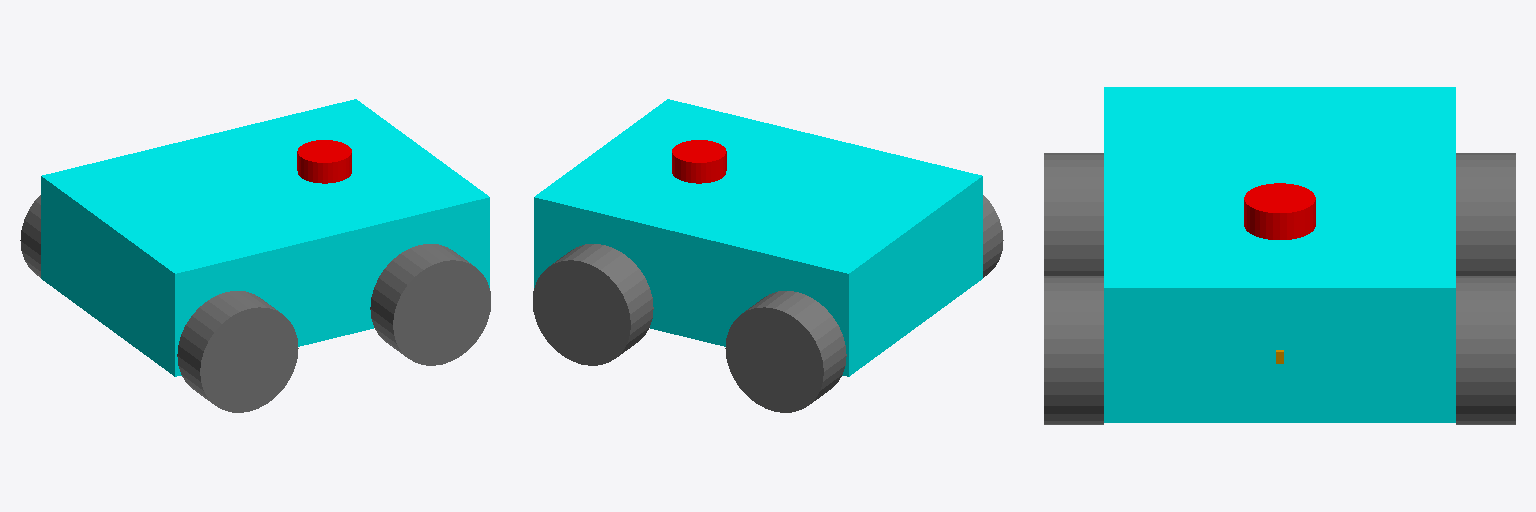
URDF robot description (RALLP_2):
<?xml version="1.0" ?>

<robot name="RALLP_2">

<!-- Robot base -->

  <link name="base_link">
    <visual>
      <origin xyz="0 0 0" rpy="0 0 0"/>
      <geometry>
        <box size="0.8 0.59 0.25"/>
      </geometry>
      <material name="Cyan">
        <color rgba="0 1.0 1.0 1.0"/>
      </material>
    </visual>
    <collision>
      <origin xyz="0 0 0" rpy="0 0 0"/>
      <geometry>
        <box size="0.8 0.59 0.25"/>
      </geometry>
    </collision>
    <inertial>
      <origin xyz="0.0 0.0 0.0" rpy="0 0 0"/>
      <mass value="45"/>
      <inertia ixx="1.53975" ixy="0" ixz="0" 
              iyy="2.634375" iyz="0" izz="3.705375"/>
    </inertial>
  </link>



  <link name="base_footprint"/>
  <joint name="base_joint" type="fixed">
    <parent link="base_link"/>
    <child link="base_footprint"/>
    <origin rpy="0 0 0" xyz="0.0 0.0 -0.200853"/>
  </joint>
    


  <!-- Front Right Wheel -->

  <link name="fr_link">
    <visual>
      <origin xyz="0 -0.05 0" rpy="-1.570796 0.0 0.0"/>
      <geometry>
        <cylinder length="0.1" radius="0.125"/>
      </geometry>
      <material name="Gray">
        <color rgba="0.5 0.5 0.5 1.0"/>
      </material>
    </visual>
    <collision>
      <origin xyz="0 -0.05 0" rpy="-1.570796 0.0 0.0"/>
      <geometry>
        <cylinder length="0.1" radius="0.125"/>
      </geometry>
    </collision>
    <inertial>
      <origin xyz="-0.0 -0.05 0.0" rpy="0 0 0"/>
      <mass value="1.5"/>
      <inertia ixx="0.0096875" ixy="0" ixz="0" 
              iyy="0.016875" iyz="0" izz="0.0096875"/>
    </inertial>
  </link>
  <joint name="fr_joint" type="continuous">
    <parent link="base_link"/>
    <child link="fr_link"/>
    <origin xyz="0.2205 -0.295 -0.074147" rpy="0.0 0.0 0.0"/>
    <axis xyz="0 1 0"/>
    <dynamics damping="0.0" friction="1000.0"/>
  </joint>


  <!-- Front Left Wheel -->

  <link name="fl_link">
    <visual>
      <origin xyz="0 0.05 0" rpy="1.570796327 0.0 0"/>
      <geometry>
        <cylinder length="0.1" radius="0.125"/>
      </geometry>
      <material name="Gray">
        <color rgba="0.5 0.5 0.5 1.0"/>
      </material>
    </visual>
    <collision>
      <origin xyz="0 0.05 0" rpy="1.570796327 0.0 0.0"/>
      <geometry>
        <cylinder length="0.1" radius="0.125"/>
      </geometry>
    </collision>
    <inertial>
      <origin xyz="-0.0 0.05 0.0" rpy="0 0 0"/>
      <mass value="1.5"/>
      <inertia ixx="0.0096875" ixy="0" ixz="0" 
              iyy="0.016875" iyz="0" izz="0.0096875"/>
    </inertial>
  </link>
  <joint name="fl_joint" type="continuous">
    <parent link="base_link"/>
    <child link="fl_link"/>
    <origin xyz="0.2205 0.295 -0.074147" rpy="0 0.0 0.0"/>
    <axis xyz="0 1 0"/>
    <dynamics damping="0.0" friction="1000.0"/>
  </joint>


  <!-- Rear Left Wheel -->

  <link name="rl_link">
    <visual>
      <origin xyz="0 0.05 0" rpy="1.570796327 -0.0 -0.0"/>
      <geometry>
        <cylinder length="0.1" radius="0.125"/>
      </geometry>
      <material name="Gray">
        <color rgba="0.5 0.5 0.5 1.0"/>
      </material>
    </visual>
    <collision>
      <origin xyz="0 0.05 0" rpy="1.570796327 0 0"/>
      <geometry>
        <cylinder length="0.1" radius="0.125"/>
      </geometry>
    </collision>
    <inertial>
      <origin xyz="0 0.05 0" rpy="0 0 0"/>
      <mass value="1.5"/>
      <inertia ixx="0.0096875" ixy="0" ixz="0" 
              iyy="0.016875" iyz="0" izz="0.0096875"/>
    </inertial>
  </link>
  <joint name="rl_joint" type="continuous">
    <parent link="base_link"/>
    <child link="rl_link"/>
    <origin xyz="-0.2695 0.295 -0.074147" rpy="0 0.0 0.0"/>
    <axis xyz="0 1 0"/>
    <dynamics damping="0.0" friction="1000.0"/>
  </joint>


  <!-- Rear Right Wheel -->

  <link name="rr_link">
    <visual>
      <origin xyz="0 -0.05 0" rpy="-1.570796327 0.0 0.0"/>
      <geometry>
        <cylinder length="0.1" radius="0.125"/>
      </geometry>
      <material name="Gray">
        <color rgba="0.5 0.5 0.5 1.0"/>
      </material>
    </visual>
    <collision>
      <origin xyz="0 -0.05 0" rpy="-1.570796327 0.0 0.0"/>
      <geometry>
        <cylinder length="0.1" radius="0.125"/>
      </geometry>
    </collision>
    <inertial>
      <origin xyz="-0.0 -0.05 0.0" rpy="0 0 0"/>
      <mass value="1.5"/>
      <inertia ixx="0.0096875" ixy="0" ixz="0" 
              iyy="0.016875" iyz="0" izz="0.0096875"/>
    </inertial>
  </link>
  <joint name="rr_joint" type="continuous">
    <parent link="base_link"/>
    <child link="rr_link"/>
    <origin xyz="-0.2695 -0.295 -0.074147" rpy="6.283182245 0 0"/>
    <axis xyz="0 1 0"/>
    <dynamics damping="0.0" friction="1000.0"/>
  </joint>


  <!-- Lidar_link -->

  <link name="lidar_link">
    <visual>
      <geometry>
        <cylinder length="0.05" radius="0.06"/>
      </geometry>
      <material name="Red">
        <color rgba="1.0 0.0 0.0 1"/>
      </material>
    </visual>
    <collision>
      <geometry>
        <cylinder length="0.05" radius="0.06"/>
      </geometry>
    </collision>
  </link>
  <joint name="lidar_joint" type="fixed">
    <parent link="base_link"/>
    <child link="lidar_link"/>
    <origin rpy="0 0 0" xyz="0.15 0 0.15"/>
  </joint>

  <!-- imu_sensor -->

  <link name="imu_sensor">
    <visual>
      <geometry>
        <box size="0.01 0.01 0.01"/>
      </geometry>
      <material name="Red">
        <color rgba="1.0 1.0 0.0 1"/>
      </material>
    </visual>
    <inertial>
        <mass value="0.01"/>
        <inertia ixx="0.001" ixy="0.0" ixz="0.0" 
                 iyy="0.001" iyz="0.0" izz="0.001"/>
    </inertial>
    <collision>
      <geometry>
        <box size="0.01 0.01 0.01"/>
      </geometry>
    </collision>
  </link>
  <joint name="imu_joint" type="fixed">
    <parent link="base_link"/>
    <child link="imu_sensor"/>
    <origin rpy="0 0 0" xyz="0 0 0.05"/>
  </joint>


  <!-- Camera link -->

 <link name="camera_link">
   <visual>
     <origin xyz="0 0 0" rpy="0 0 0"/>
     <geometry>
       <box size="0.015 0.015 0.022"/>
     </geometry>
   </visual>
   <collision>
     <origin xyz="0 0 0" rpy="0 0 0"/>
     <geometry>
       <box size="0.01 0.05 0.05"/>
     </geometry>
   </collision>
   <inertial>
     <origin xyz="0 0 0" rpy="0 0 0"/>
     <mass value="0.035"/>
     <inertia ixx="0.001" ixy="0" ixz="0" iyy="0.001" iyz="0" izz="0.001" />
   </inertial>
 </link>

 <joint name="camera_joint" type="fixed">
   <parent link="base_link"/>
   <child link="camera_link"/>
   <origin xyz="0.4 0 0" rpy="0 0 0"/>
 </joint>


  <!-- Gazebo plugin -->

  <gazebo>
    <plugin filename="gz-sim-diff-drive-system" name="gz::sim::systems::DiffDrive">
      <left_joint>fl_joint</left_joint>
      <left_joint>rl_joint</left_joint>
      <right_joint>fr_joint</right_joint>
      <right_joint>rr_joint</right_joint>
      <robotBaseFrame>base_link</robotBaseFrame>
      <wheel_separation>0.69</wheel_separation>
      <wheel_radius>0.125</wheel_radius>
      <odom_topic>odom</odom_topic>
      <frame_id>odom</frame_id>
      <child_frame_id>base_link</child_frame_id>
      <odom_publisher_frequency>5000</odom_publisher_frequency>
      <tf_topic>/tf</tf_topic>
      <topic>cmd_vel</topic>
    </plugin>


    <!-- joint_states publisher -->

    <plugin filename="gz-sim-joint-state-publisher-system" name="gz::sim::systems::JointStatePublisher">
      <topic>joint_states</topic>
      <joint_name>fl_joint</joint_name>
      <joint_name>fr_joint</joint_name>
      <joint_name>rl_joint</joint_name>
      <joint_name>rr_joint</joint_name>
    </plugin> 


    <!-- Lidar plugin -->

    <plugin
      filename="gz-sim-sensors-system"
      name="gz::sim::systems::Sensors">
      <render_engine>ogre2</render_engine>
    </plugin>
  </gazebo>

  <!--<gazebo reference="lidar_link">
    <sensor name="laser" type="gpu_lidar">
        <pose> 0 0 0 0 0 0 </pose>
        <visualize>true</visualize>
          <update_rate>10</update_rate>
         <lidar>
           <scan>
              <horizontal>
                <samples>1000</samples>
                <min_angle>-3.1415</min_angle>                   
                <max_angle>3.1415</max_angle>
              </horizontal>
           </scan>
          <range>
            <min>0.1</min>
            <max>12</max>
          </range>
         </lidar>
       <topic>scan</topic>
       <gz_frame_id>lidar_link</gz_frame_id>
    </sensor>
        
  </gazebo>-->


  <!-- Wheel friction Plugin-->

  <gazebo reference="fl_link">
     <mu1 value="5"/>
     <mu2 value="2"/>
  </gazebo>

  <gazebo reference="rl_link">
     <mu1 value="3"/>
     <mu2 value="2"/>
  </gazebo>

  <gazebo reference="rr_link">
     <mu1 value="3"/>
     <mu2 value="2"/>
  </gazebo>

  <gazebo reference="fr_link">
     <mu1 value="3"/>
     <mu2 value="2"/>
  </gazebo>
  


   <!-- Camera Plugin-->

</robot>

--- Render facts (derived) ---
The picture shows the robot from 3 angles, left to right: view 1: azimuth 30°, elevation 25°; view 2: azimuth 150°, elevation 25°; view 3: azimuth 270°, elevation 25°; orthographic projection.
Model RALLP_2 with 9 links and 8 joints (4 continuous, 4 fixed), rooted at base_link, posed all joints at 0.
Links seen in each view (by area): view 1: base_link, rr_link, fr_link, lidar_link, rl_link; view 2: base_link, rl_link, fl_link, lidar_link, rr_link; view 3: base_link, fr_link, fl_link, rl_link, rr_link, lidar_link.
Boxes of the visible links, x1=… form: base_link: x1=41, y1=99, x2=489, y2=376; rr_link: x1=177, y1=291, x2=298, y2=412; fr_link: x1=370, y1=244, x2=490, y2=365; lidar_link: x1=297, y1=140, x2=351, y2=183; rl_link: x1=20, y1=195, x2=40, y2=277; base_link: x1=534, y1=99, x2=982, y2=376; rl_link: x1=725, y1=291, x2=846, y2=412; fl_link: x1=533, y1=244, x2=653, y2=365; lidar_link: x1=672, y1=140, x2=726, y2=183; rr_link: x1=983, y1=195, x2=1003, y2=277; base_link: x1=1104, y1=87, x2=1455, y2=422; fr_link: x1=1044, y1=276, x2=1103, y2=424; fl_link: x1=1456, y1=276, x2=1515, y2=424; rl_link: x1=1456, y1=153, x2=1515, y2=275; rr_link: x1=1044, y1=153, x2=1103, y2=275; lidar_link: x1=1244, y1=183, x2=1315, y2=239.
Bounding box of the posed robot: 0.8075 × 0.79 × 0.3741 m (x, y, z).
Geometry: primitives only (box / cylinder / sphere), no mesh files.
